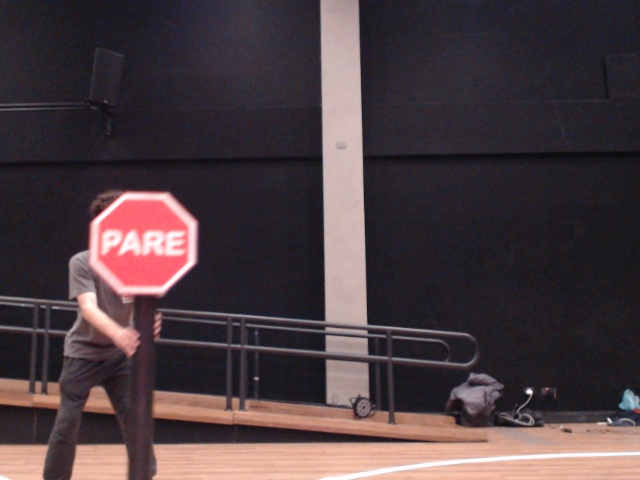SEMAFORO: (76, 177, 231, 320)
